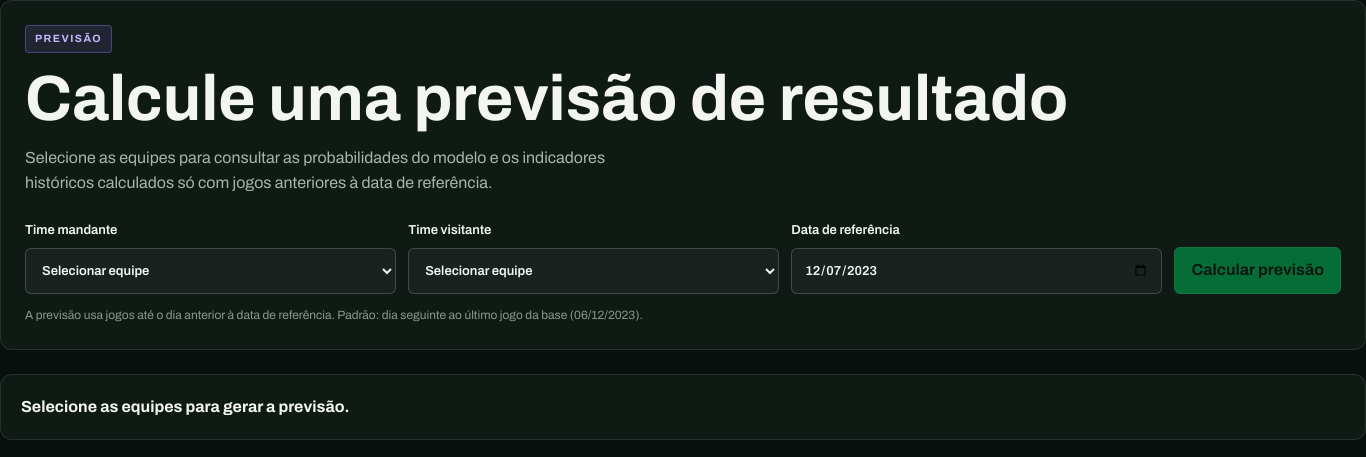
Test: Página de previsão › impede equipes iguais e desabilita o envio
Select "Flamengo" in the dropdown labelled "Time mandante" at (211, 271), box [25,248,396,294]
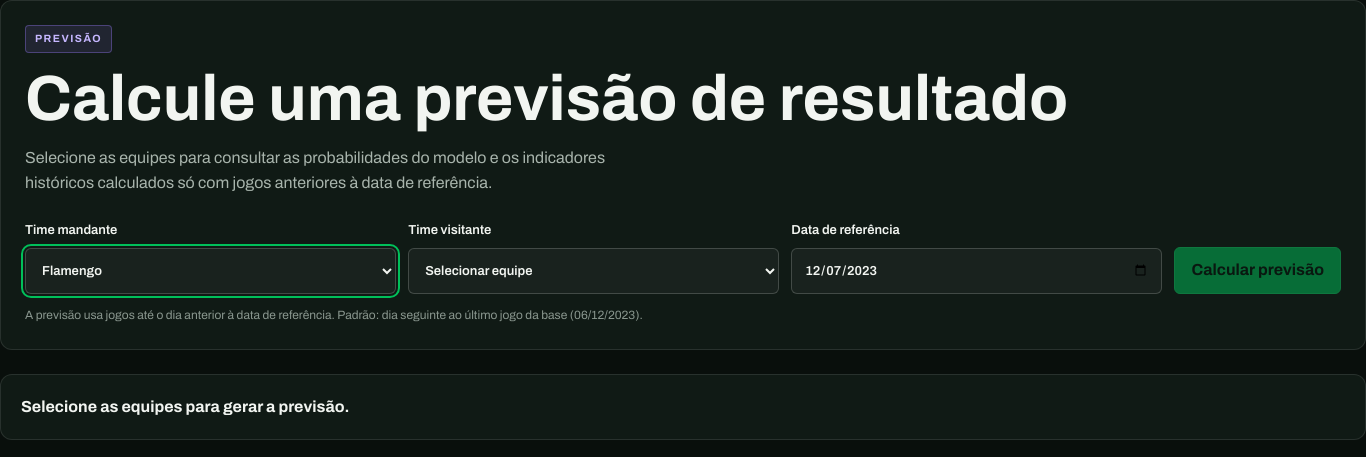
Select "Palmeiras" in the dropdown labelled "Time visitante" at (594, 271), box [408,248,779,294]
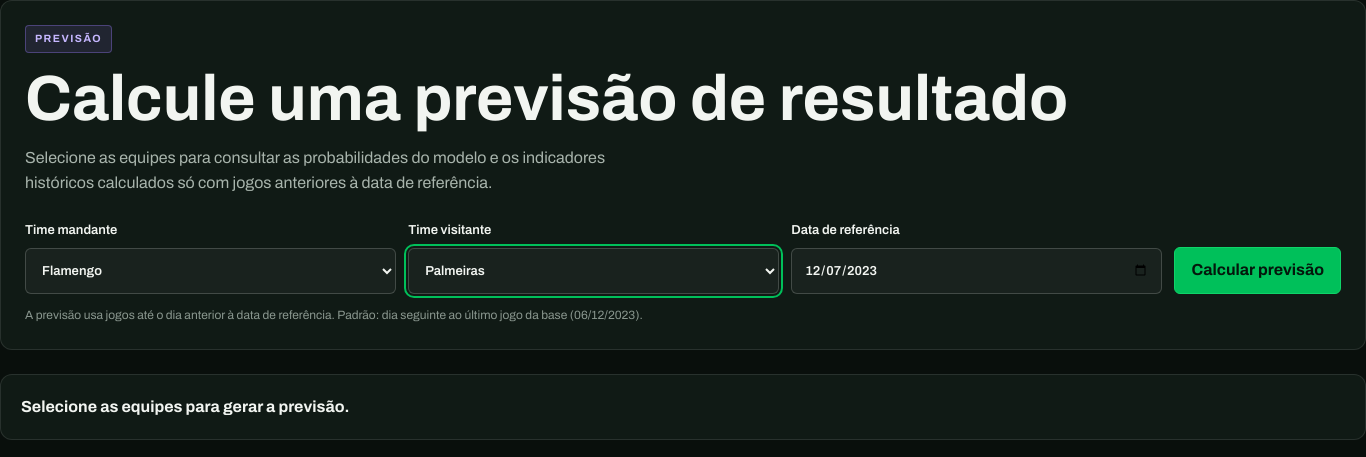
Expected: the button "Calcular previsão" is enabled, [1174,247,1341,294]
